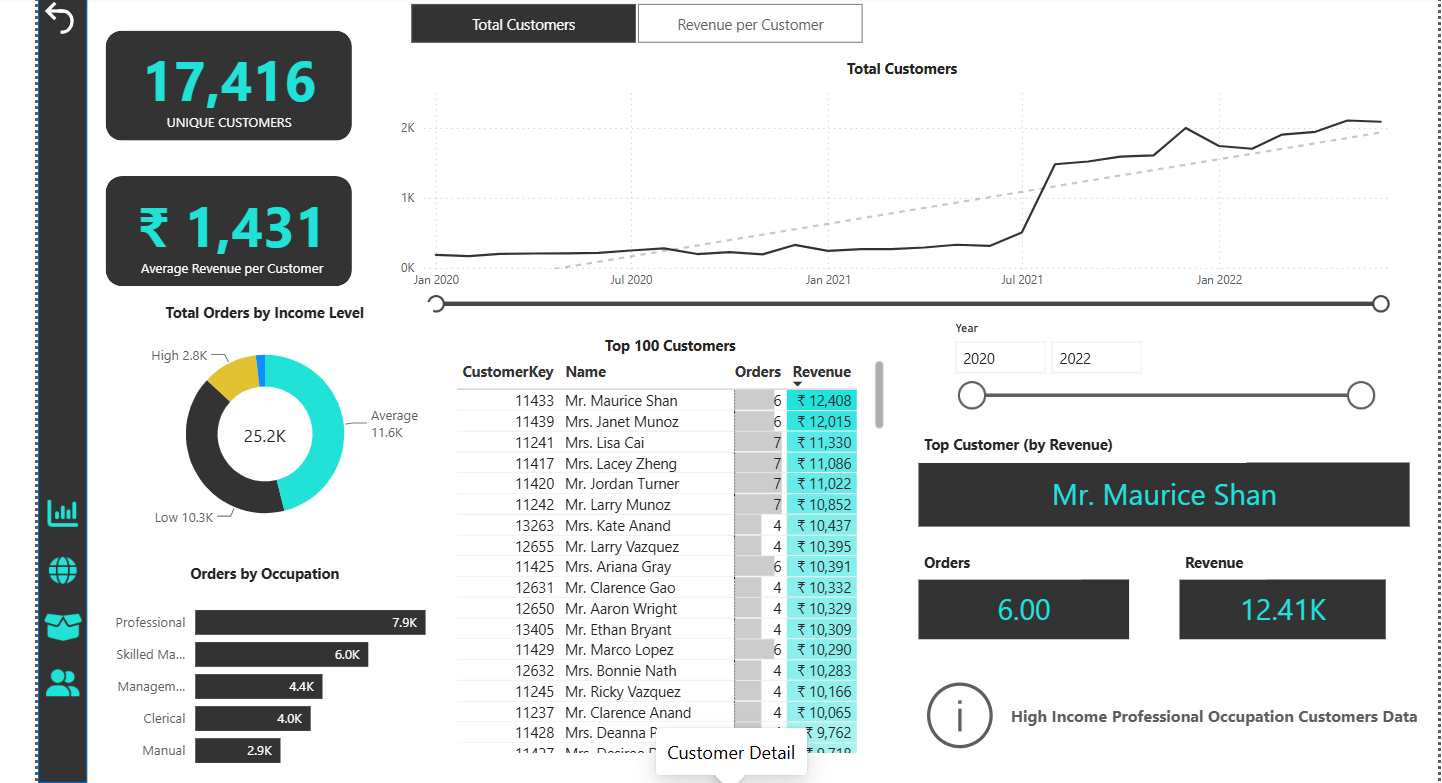

This screenshot's page, from the dashboard's own definition file:
{"tool":"powerbi","page":{"name":"Customer Detail","canvas":[1280,720],"ordinal":3},"visuals":[{"type":"shape","title":"Left Navigation Pane","box":[0,0,45,720],"z":0},{"type":"shape","box":[62.3,31.2,225.6,100.9],"z":1000},{"type":"card","fields":{"Values":["Measure Table.Total Customers"]},"box":[51.3,18.3,247.6,128.4],"z":2000},{"type":"shape","box":[62.3,165,225.6,100.9],"z":3000},{"type":"card","fields":{"Values":["Measure Table.Average Revenue per Customer"]},"box":[53.2,152.2,247.6,126.5],"z":4000},{"type":"lineChart","fields":{"Y":["Measure Table.Total Customers"],"Category":["Calendar Lookup.Date.Variation.Date Hierarchy.Year","Calendar Lookup.Date.Variation.Date Hierarchy.Quarter","Calendar Lookup.Date.Variation.Date Hierarchy.Month","Calendar Lookup.Date.Variation.Date Hierarchy.Day"]},"box":[326.8,56,927.5,236],"z":5000},{"type":"donutChart","fields":{"Category":["Customer Lookup.Income Level"],"Y":["Measure Table.Total Orders"]},"box":[52.9,279.4,307.7,222.8],"z":6000},{"type":"barChart","title":"Orders by Occupation","fields":{"Y":["Measure Table.Total Orders"],"Category":["Customer Lookup.Occupation"]},"box":[52.9,519.2,307.7,200.1],"z":7000},{"type":"card","fields":{"Values":["Measure Table.Total Orders"]},"box":[179.7,382.6,54.9,42.5],"z":8000},{"type":"tableEx","title":"Top 100 Customers","fields":{"Values":["Customer Lookup.CustomerKey","Customer Lookup.Full Name","Measure Table.Total Orders","Measure Table.Total Revenue"]},"box":[377.1,309.9,401.8,386.7],"z":9000},{"type":"card","title":"xxxxxxxxx","fields":{"Values":["Measure Table.Full Name (Customer Detail)"]},"box":[806.1,426.7,449.3,58.5],"z":10000},{"type":"card","title":"xxxxxxxxx","fields":{"Values":["Measure Table.Total Orders (Customer Detail)"]},"box":[806.1,534.3,192.6,54.7],"z":11000},{"type":"card","title":"xxxxxxxxx","fields":{"Values":["Measure Table.Total Revenue (Customer Detail)"]},"box":[1044,534.3,188.8,54.7],"z":12000},{"type":"textbox","box":[806.1,394.6,300.2,32.1],"z":13000},{"type":"textbox","box":[806.1,504.1,149.1,30.2],"z":14000},{"type":"textbox","box":[1044,504.1,79.3,30.2],"z":15000},{"type":"slicer","fields":{"Values":["Calendar Lookup.Year"]},"box":[826.1,292,405.5,89.3],"z":16000},{"type":"actionButton","box":[0,0,45.8,39.4],"z":17000},{"type":"actionButton","box":[806.2,620,460.7,75.7],"z":18000},{"type":"image","box":[0,455.4,45.4,34.8],"z":19000},{"type":"image","box":[0,507.4,45.4,34.8],"z":20000},{"type":"image","box":[0,559.3,45.4,34.8],"z":21000},{"type":"image","box":[0,611.3,45.4,34.8],"z":22000},{"type":"slicer","fields":{"Values":["Customer Metric Selection.Customer Metric Selection"]},"box":[316.2,0,463,49.9],"z":23000}]}

Visuals, with their boxes on the page's 1280x720 design canvas (x1, y1, x2, y2). These are canvas units, not pixel positions in the 1442x783 screenshot, which may show the page scaled, cropped or inside an application window:
"Left Navigation Pane" shape: [0,0,45,720]
shape: [62,31,288,132]
card - Measure Table.Total Customers: [51,18,299,147]
shape: [62,165,288,266]
card - Measure Table.Average Revenue per Customer: [53,152,301,279]
lineChart - Measure Table.Total Customers x Calendar Lookup.Date.Variation.Date Hierarchy.Year: [327,56,1254,292]
donutChart - Customer Lookup.Income Level x Measure Table.Total Orders: [53,279,361,502]
"Orders by Occupation" barChart: [53,519,361,719]
card - Measure Table.Total Orders: [180,383,235,425]
"Top 100 Customers" tableEx: [377,310,779,697]
"xxxxxxxxx" card: [806,427,1255,485]
"xxxxxxxxx" card: [806,534,999,589]
"xxxxxxxxx" card: [1044,534,1233,589]
textbox: [806,395,1106,427]
textbox: [806,504,955,534]
textbox: [1044,504,1123,534]
slicer - Calendar Lookup.Year: [826,292,1232,381]
actionButton: [0,0,46,39]
actionButton: [806,620,1267,696]
image: [0,455,45,490]
image: [0,507,45,542]
image: [0,559,45,594]
image: [0,611,45,646]
slicer - Customer Metric Selection.Customer Metric Selection: [316,0,779,50]
